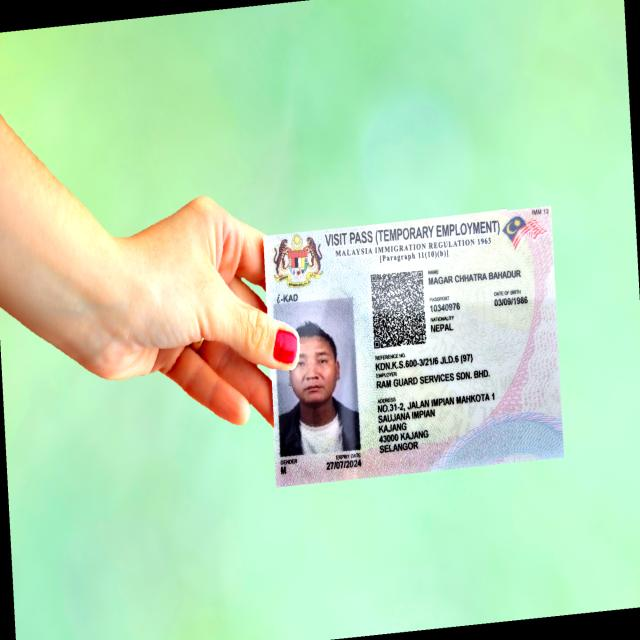ikad-temp: (262, 206, 564, 487)
